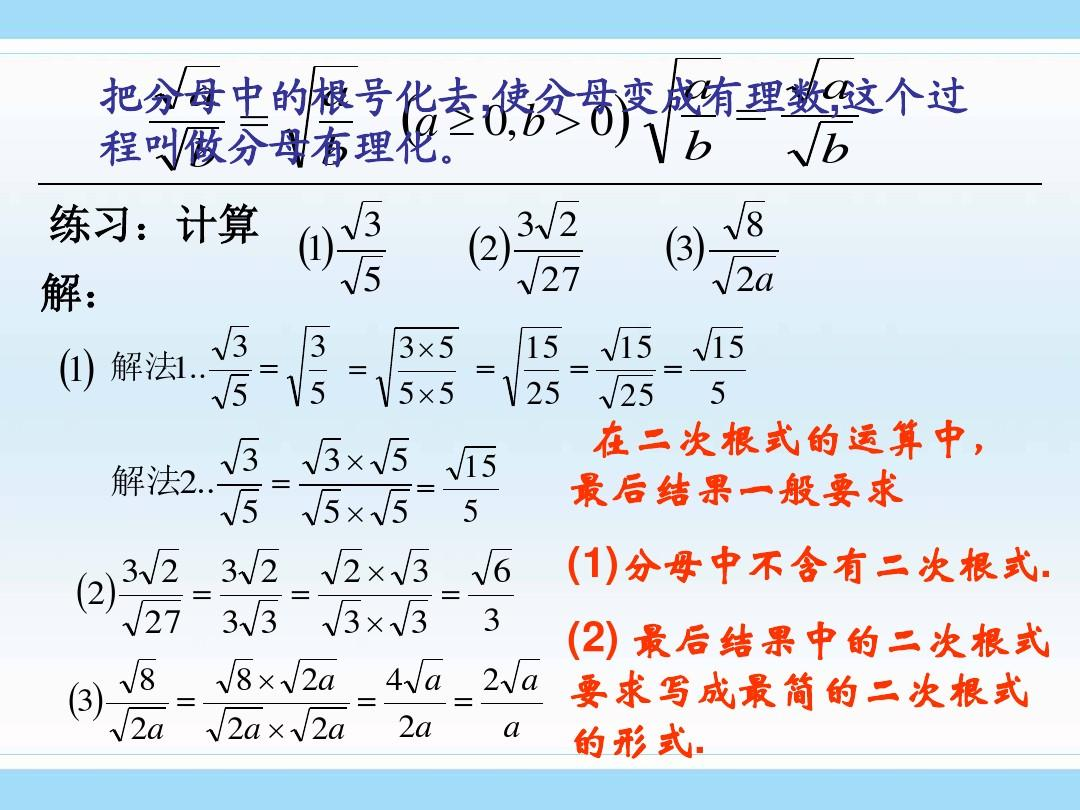division: (199, 696, 352, 713), (313, 586, 437, 605), (296, 479, 421, 492), (780, 106, 858, 126), (144, 114, 227, 128), (120, 588, 197, 603), (217, 589, 288, 605), (707, 241, 781, 256), (512, 245, 596, 258), (686, 360, 746, 378), (441, 481, 504, 497), (105, 696, 169, 710), (391, 366, 456, 379), (384, 700, 451, 711), (483, 696, 544, 708), (595, 364, 655, 376), (213, 481, 268, 494), (334, 245, 389, 257), (314, 114, 353, 130), (208, 363, 253, 376), (523, 365, 562, 378), (466, 590, 515, 600), (678, 110, 715, 122), (307, 366, 327, 374)
sqrt: (650, 52, 732, 167), (289, 61, 367, 170), (374, 322, 463, 413), (508, 326, 566, 411), (152, 54, 227, 112), (794, 48, 860, 111), (284, 324, 330, 410), (160, 121, 231, 176), (794, 113, 859, 169), (712, 252, 779, 299), (280, 656, 346, 698), (521, 252, 583, 295), (301, 432, 355, 479), (125, 599, 187, 639), (598, 372, 658, 413), (603, 321, 648, 368), (234, 598, 280, 643), (111, 705, 170, 740), (695, 323, 739, 368), (538, 195, 580, 242), (443, 444, 500, 478), (724, 194, 764, 242), (218, 435, 261, 479), (138, 544, 185, 584), (208, 705, 263, 738), (294, 705, 343, 742), (342, 199, 383, 243), (376, 488, 415, 532), (475, 542, 509, 592), (325, 546, 364, 589), (392, 547, 431, 590), (120, 654, 161, 694), (349, 253, 383, 300), (401, 655, 444, 692), (241, 547, 281, 586), (216, 373, 256, 412), (328, 597, 366, 638), (505, 654, 542, 696), (371, 435, 406, 477), (227, 488, 263, 528), (306, 489, 340, 528), (222, 657, 253, 694), (402, 598, 429, 632), (218, 327, 247, 358), (714, 245, 744, 274)
